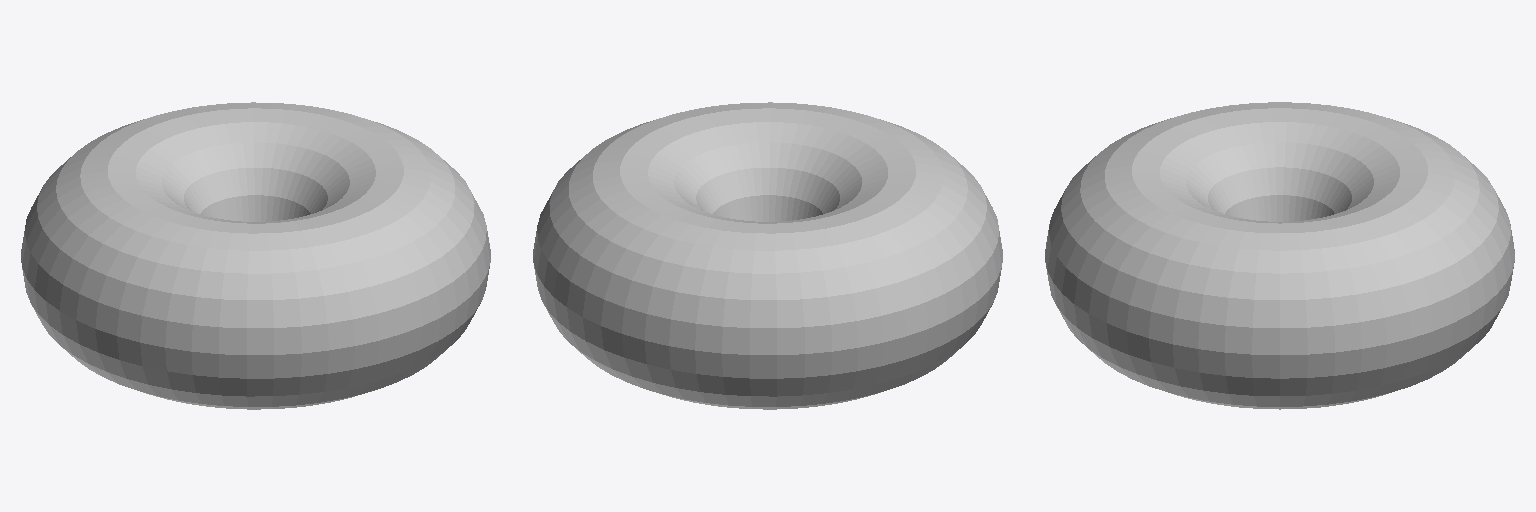
The model's file is toro.obj.
3 views of the same model, side by side, from view 1: azimuth 30°, elevation 25°; view 2: azimuth 150°, elevation 25°; view 3: azimuth 270°, elevation 25° (orthographic).
Visible parts, largest first — view 1: Rosca.001; view 2: Rosca.001; view 3: Rosca.001.
Part boxes in pixels (left/top/right/bottom): Rosca.001: left=21, top=102, right=490, bottom=409; Rosca.001: left=533, top=102, right=1002, bottom=409; Rosca.001: left=1045, top=102, right=1514, bottom=409.
Size of the model in its own units: 3.5 by 1.4 by 3.5.